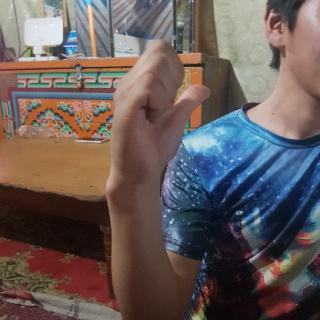WAW: (105, 34, 216, 187)
